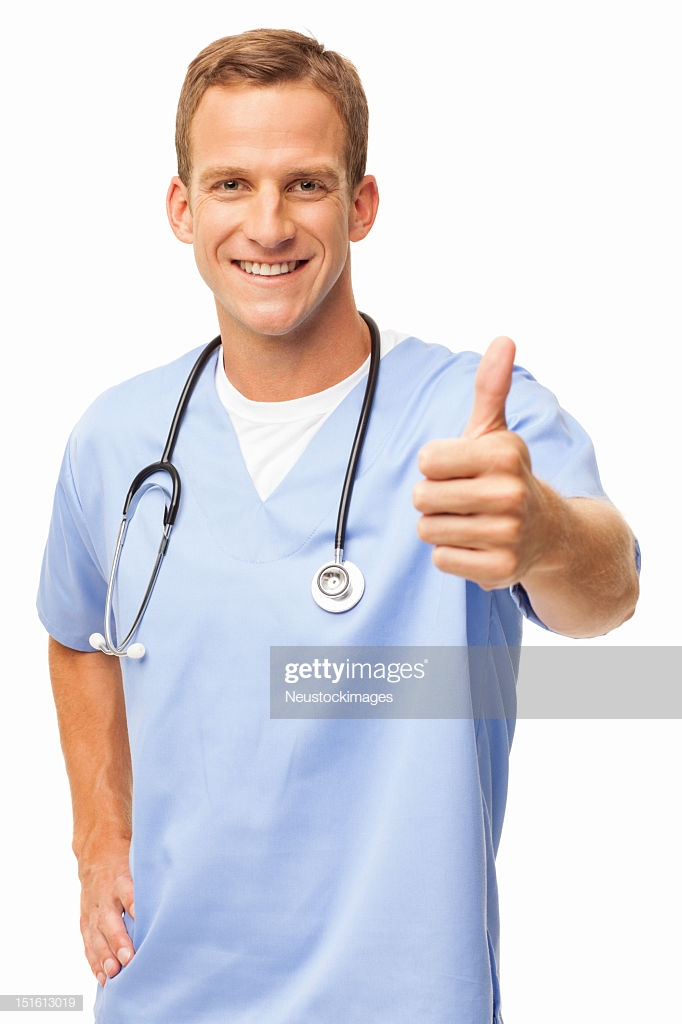thumbsup: (410, 335, 531, 587)
